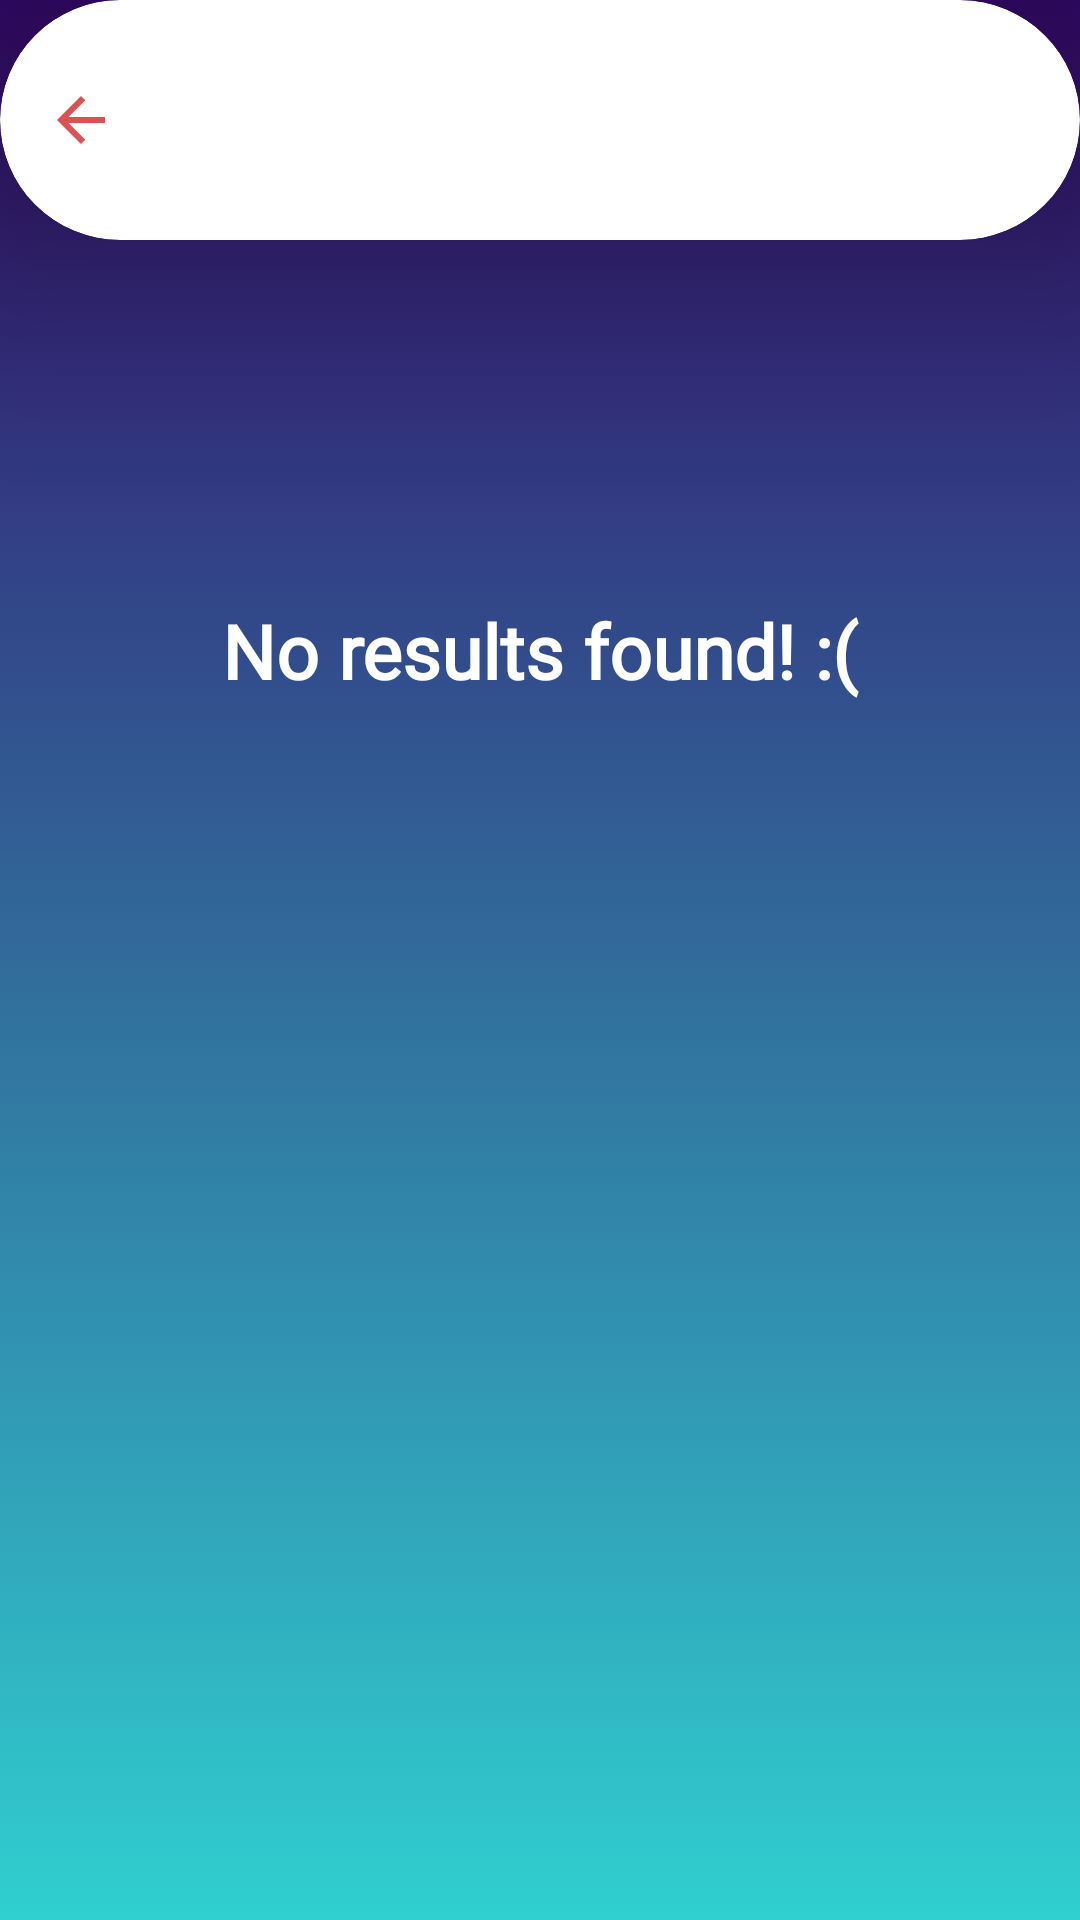

Icon bounding boxes for this 1080 × 1920 phone screenshot, format (x1, y1, x2, y2):
arrow back: (57, 96, 105, 144)
